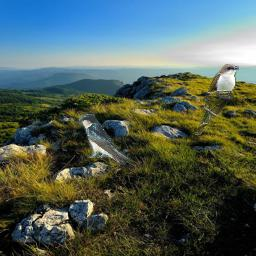Cuckoo: (194, 63, 239, 135)
Swallow: (79, 114, 132, 165)
